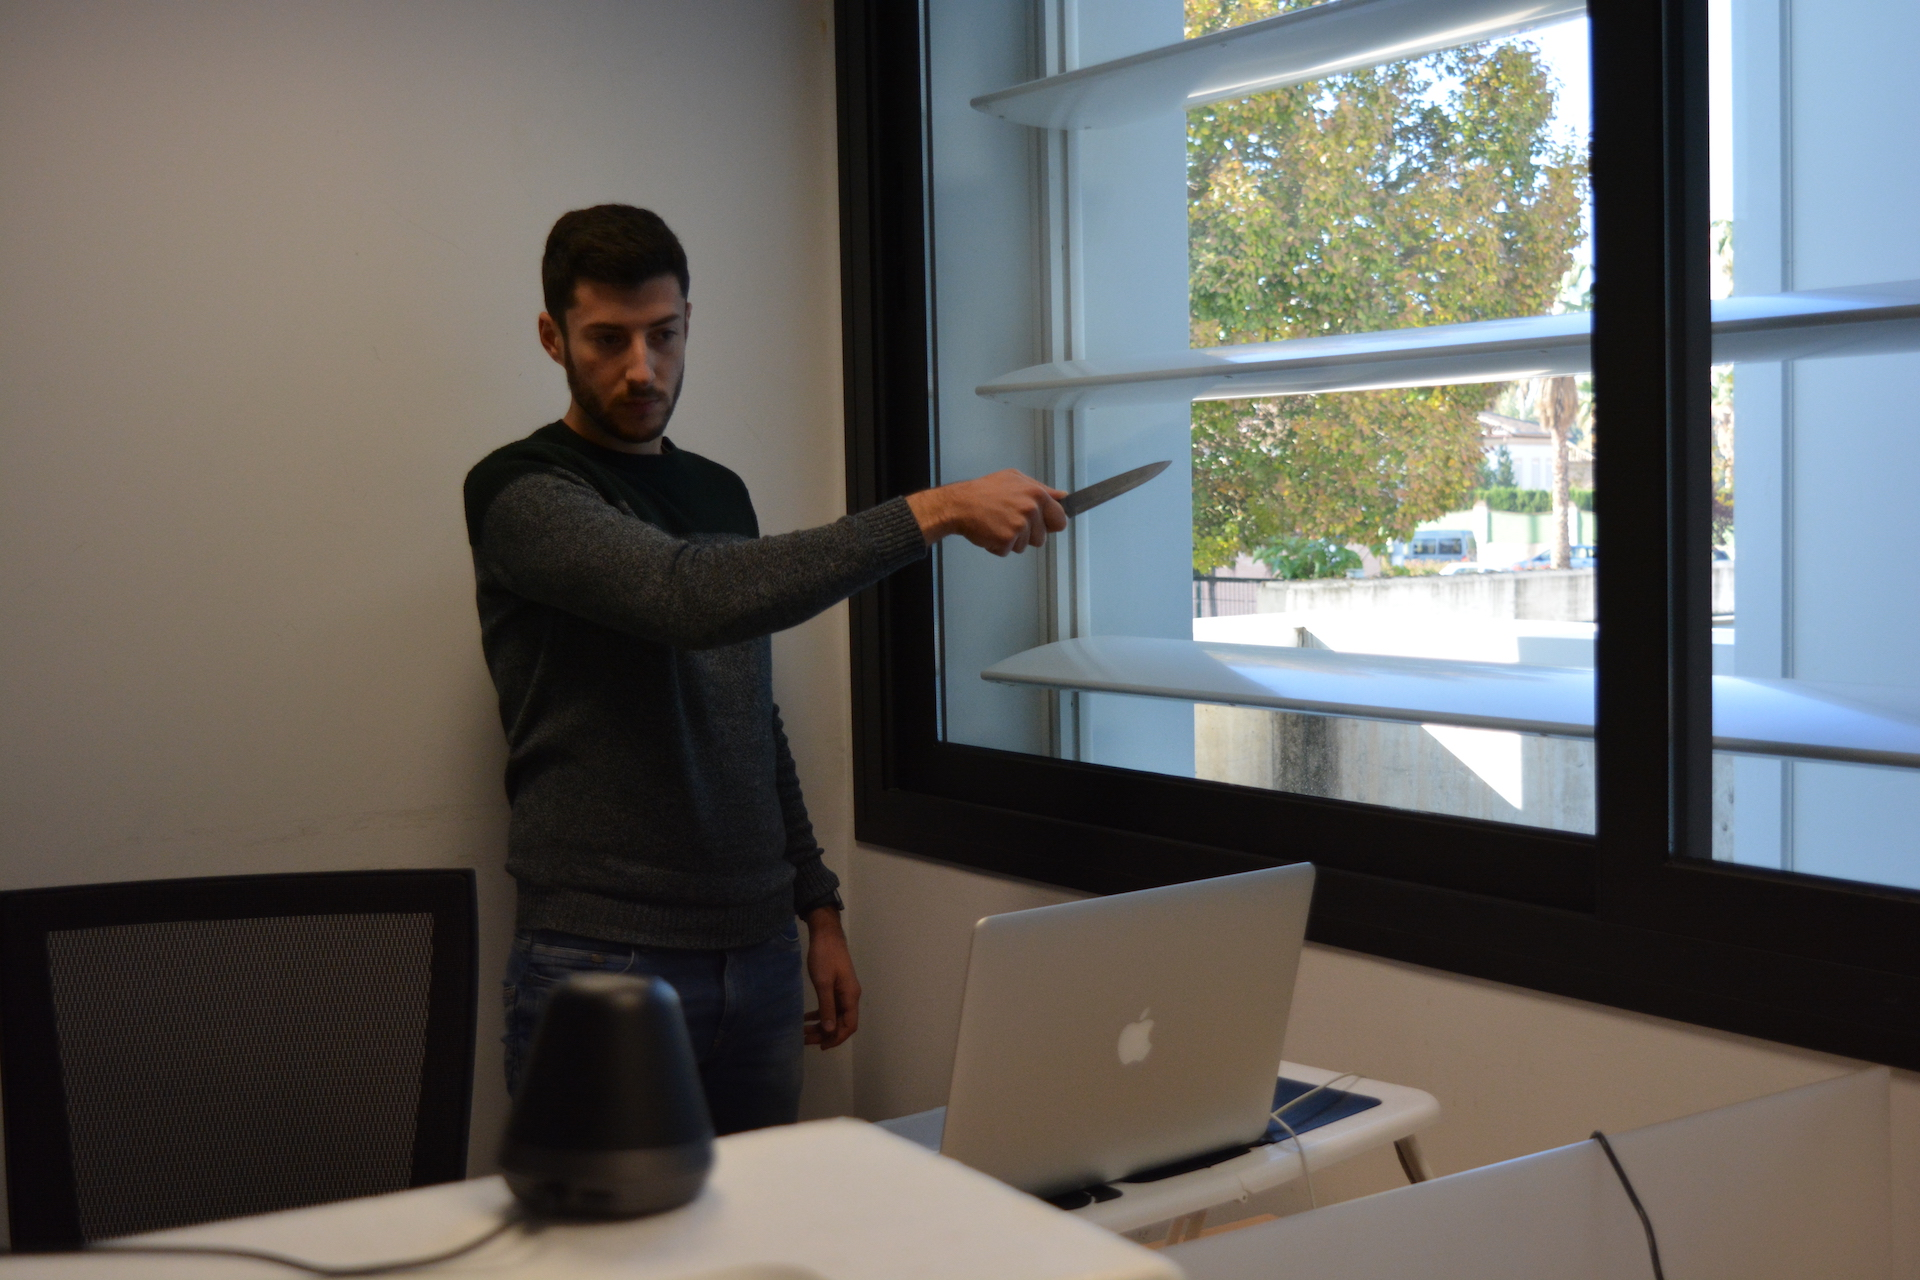knife: (1034, 454, 1181, 530)
